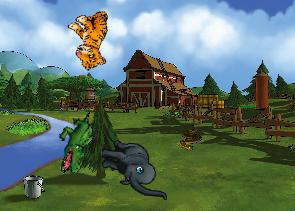crocodile: (56, 112, 96, 174)
elephant: (97, 139, 171, 200)
tiger: (61, 5, 124, 72)
